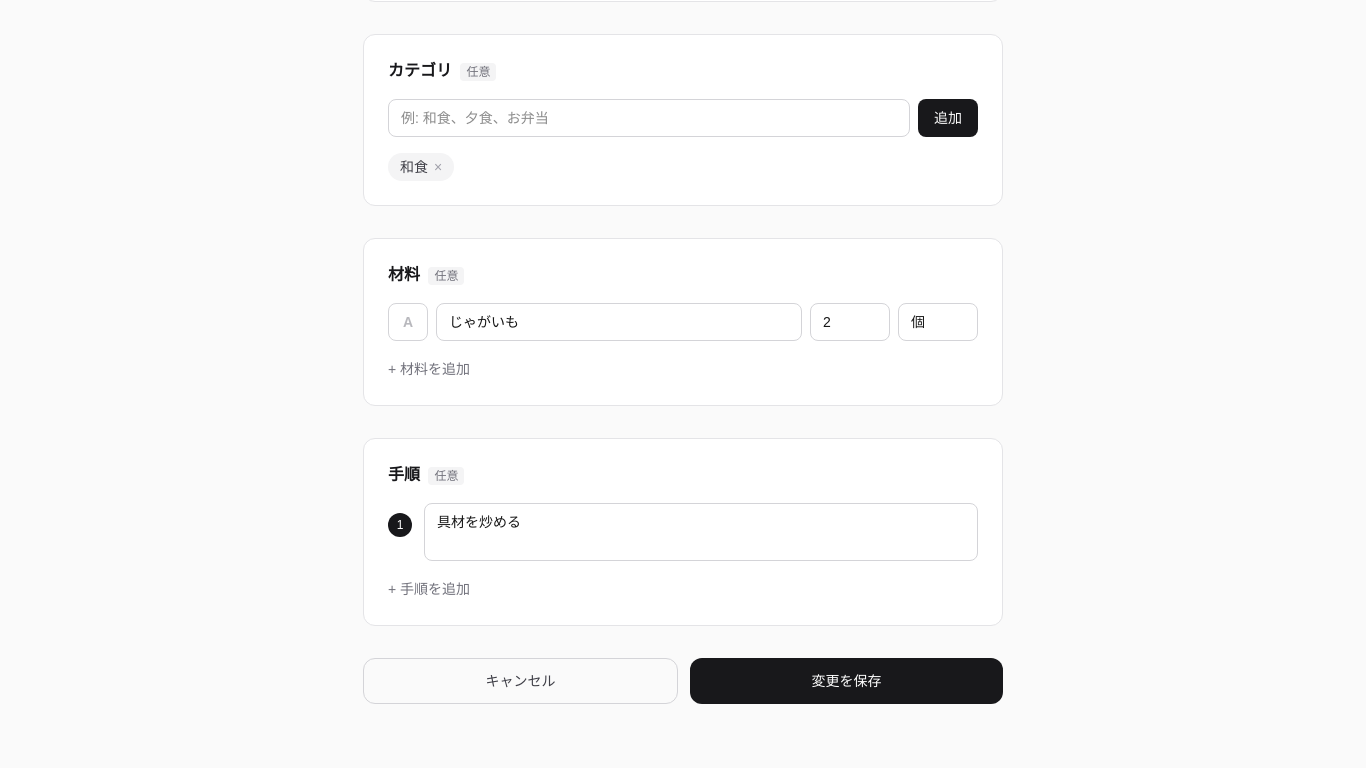
Test: EditRecipeForm › タイトル空で送信するとエラーメッセージが表示され updateRecipe が呼ばれない
(page scrolled)
Click the button "変更を保存" at (846, 681), box [690,658,1003,704]
(page scrolled)
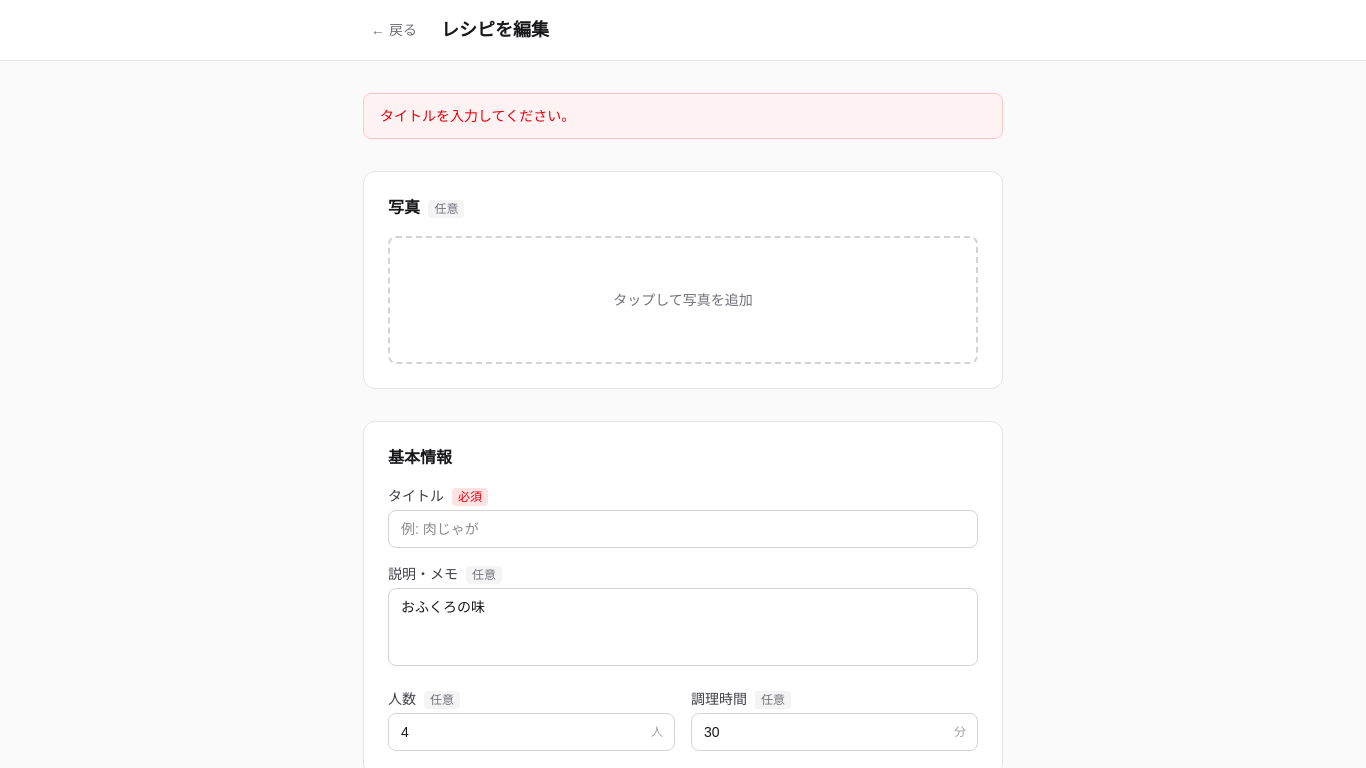
Now the text "タイトルを入力してください。" is shown, box [363,93,1003,139]
